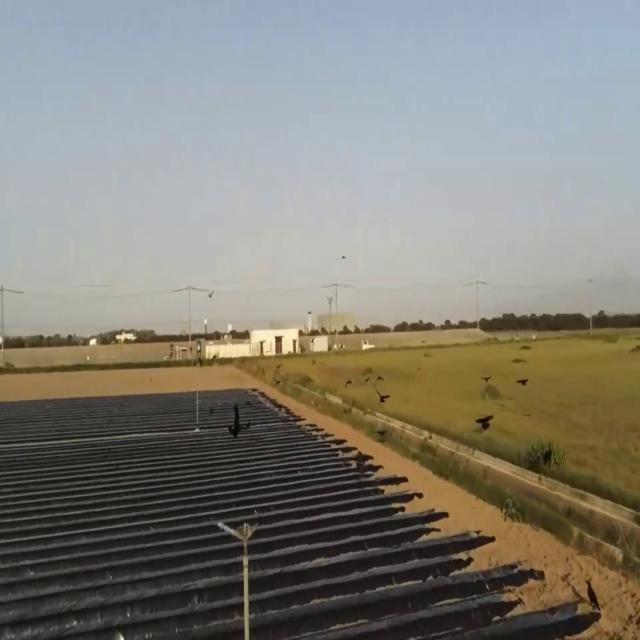bird: (475, 404, 494, 442), (585, 570, 600, 618), (375, 382, 390, 412), (516, 370, 528, 397)
